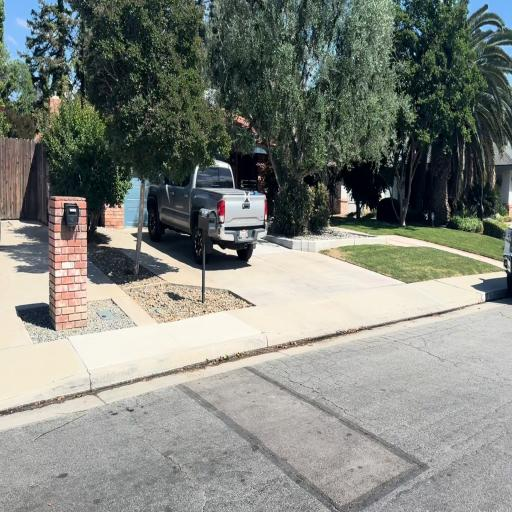target1: (244, 191, 250, 202)
